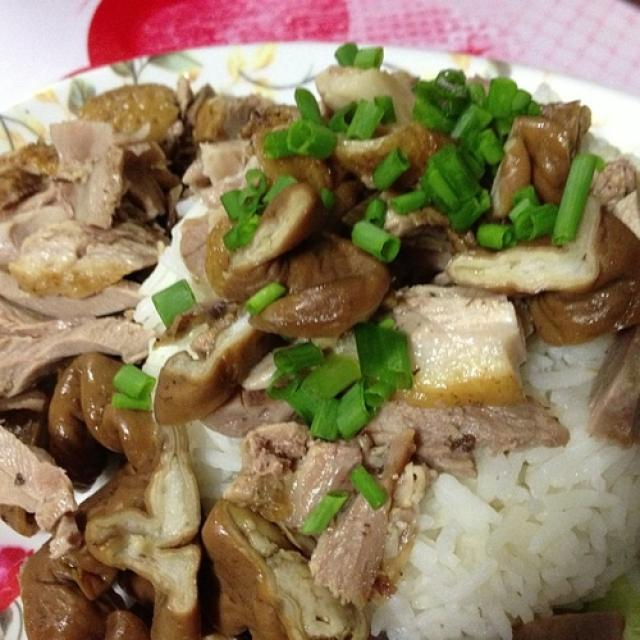米饭主食: (19, 69, 630, 621)
